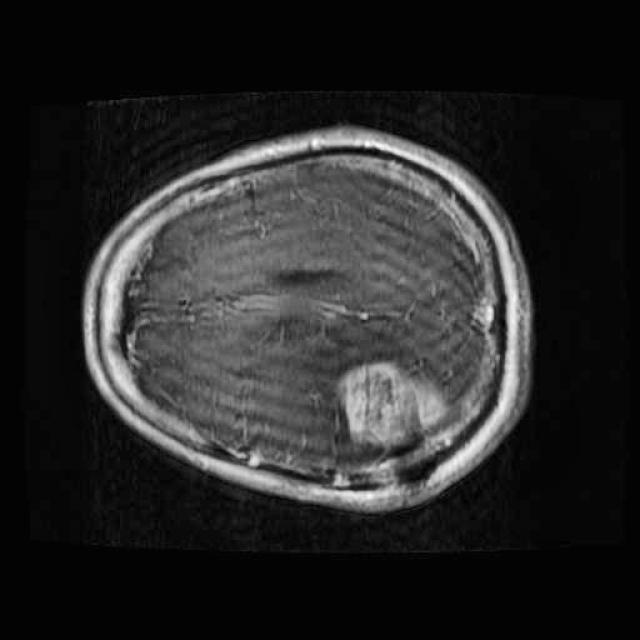Non-Tumor: (321, 345, 459, 465)
